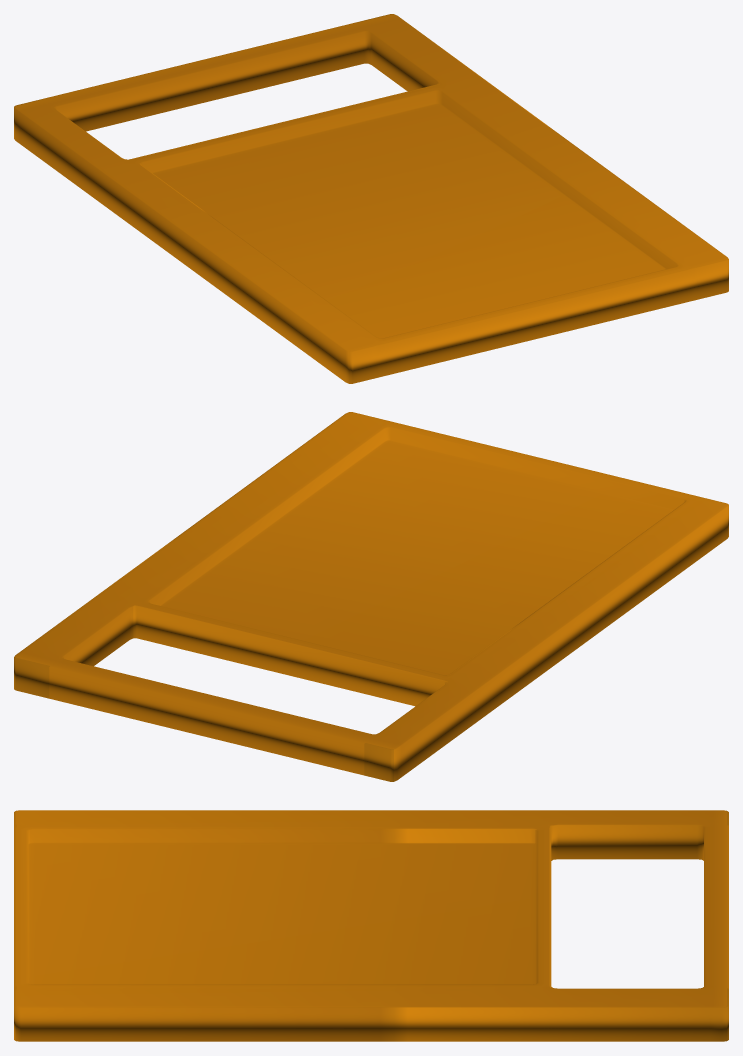
The model's file is Cutting Board Big.fbx.
3 views of the same model, one above another, from view 1: azimuth 30°, elevation 25°; view 2: azimuth 150°, elevation 25°; view 3: azimuth 270°, elevation 25° (orthographic). The views are drawn at different scales.
Visible parts, largest first — view 1: Cutting Board Big; view 2: Cutting Board Big; view 3: Cutting Board Big.
Boxes of the visible parts, x1=… form: Cutting Board Big: x1=14, y1=14, x2=728, y2=383; Cutting Board Big: x1=14, y1=412, x2=728, y2=781; Cutting Board Big: x1=14, y1=810, x2=728, y2=1041.
Bounding box in the file's own units: 200 × 16.22 × 305.
